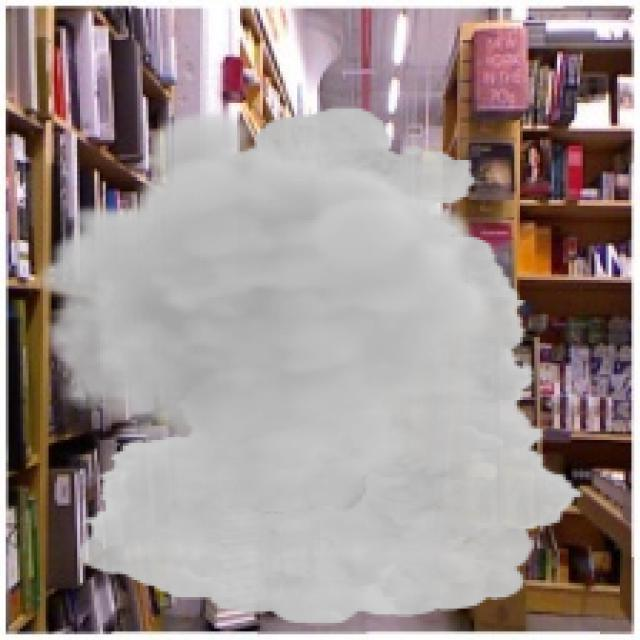Smoke: (34, 105, 586, 626)
